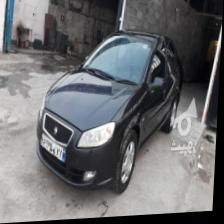plate: (40, 131, 69, 163)
